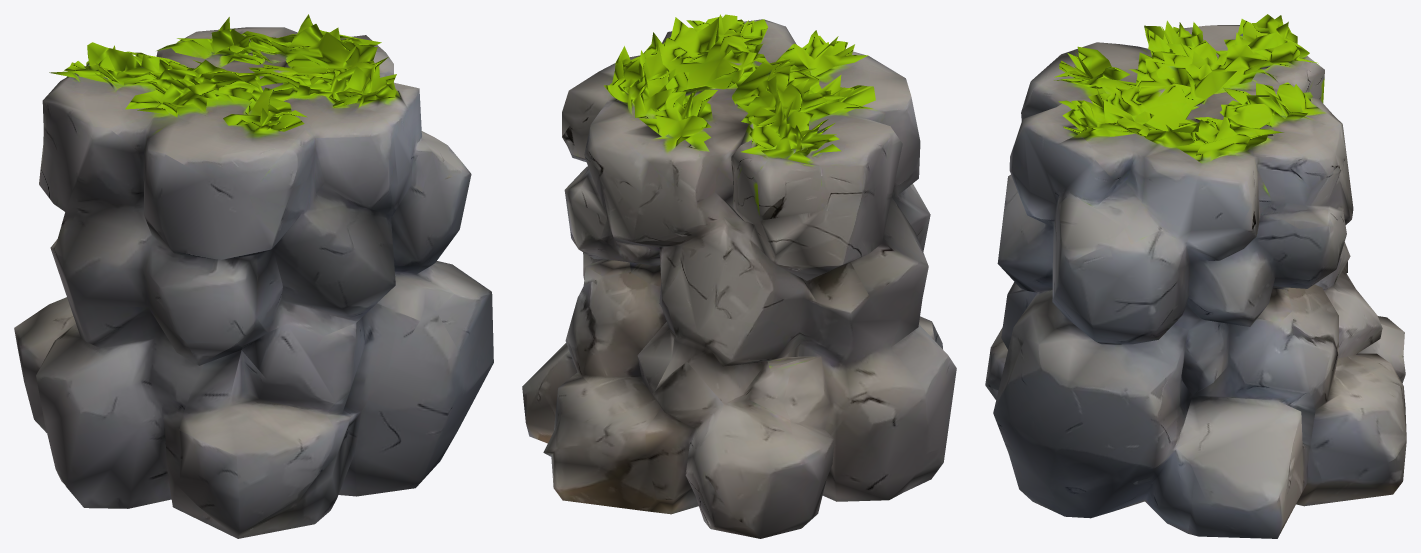
Rendered from env-cliff2.glb.
The picture shows the model from 3 angles, left to right: view 1: azimuth 30°, elevation 25°; view 2: azimuth 150°, elevation 25°; view 3: azimuth 270°, elevation 25°; orthographic projection. The views are drawn at different scales.
Parts seen in each view (by area): view 1: tripo_node_452ce76c-3bbd-4743-a03c-d928cf309398; view 2: tripo_node_452ce76c-3bbd-4743-a03c-d928cf309398; view 3: tripo_node_452ce76c-3bbd-4743-a03c-d928cf309398.
Boxes of the visible parts, left/top/right/bottom form: tripo_node_452ce76c-3bbd-4743-a03c-d928cf309398: left=14, top=14, right=493, bottom=538; tripo_node_452ce76c-3bbd-4743-a03c-d928cf309398: left=522, top=14, right=956, bottom=538; tripo_node_452ce76c-3bbd-4743-a03c-d928cf309398: left=985, top=14, right=1406, bottom=538.
Bounding box in the file's own units: 0.9999 × 0.9859 × 0.9594.
Materials: 1 (1 with a texture image).
